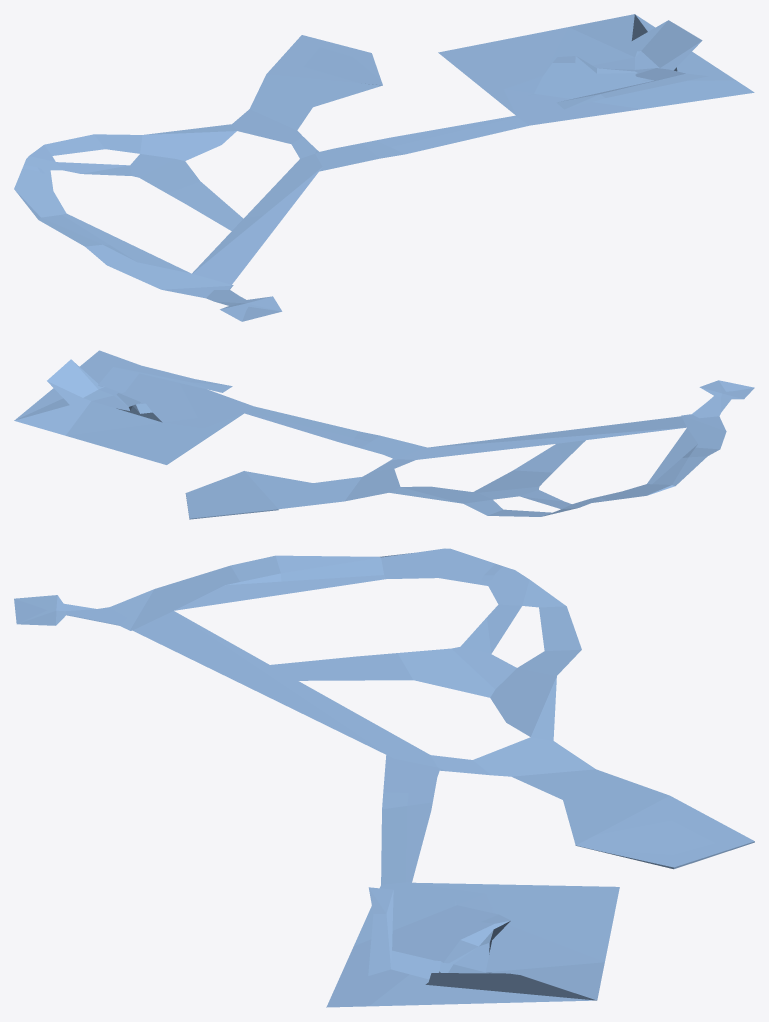
The model's file is nav.glb.
3 renders of one model, top to bottom at view 1: azimuth 30°, elevation 25°; view 2: azimuth 150°, elevation 25°; view 3: azimuth 270°, elevation 25°, orthographic. The views are drawn at different scales.
Parts seen in each view (by area): view 1: Cube; view 2: Cube; view 3: Cube.
Part boxes in pixels (box(x1,y1,x2,y2)): Cube: box(14, 14, 754, 321); Cube: box(14, 350, 754, 519); Cube: box(14, 548, 754, 1007).
Size of the model in its own units: 648 by 38.07 by 486.
